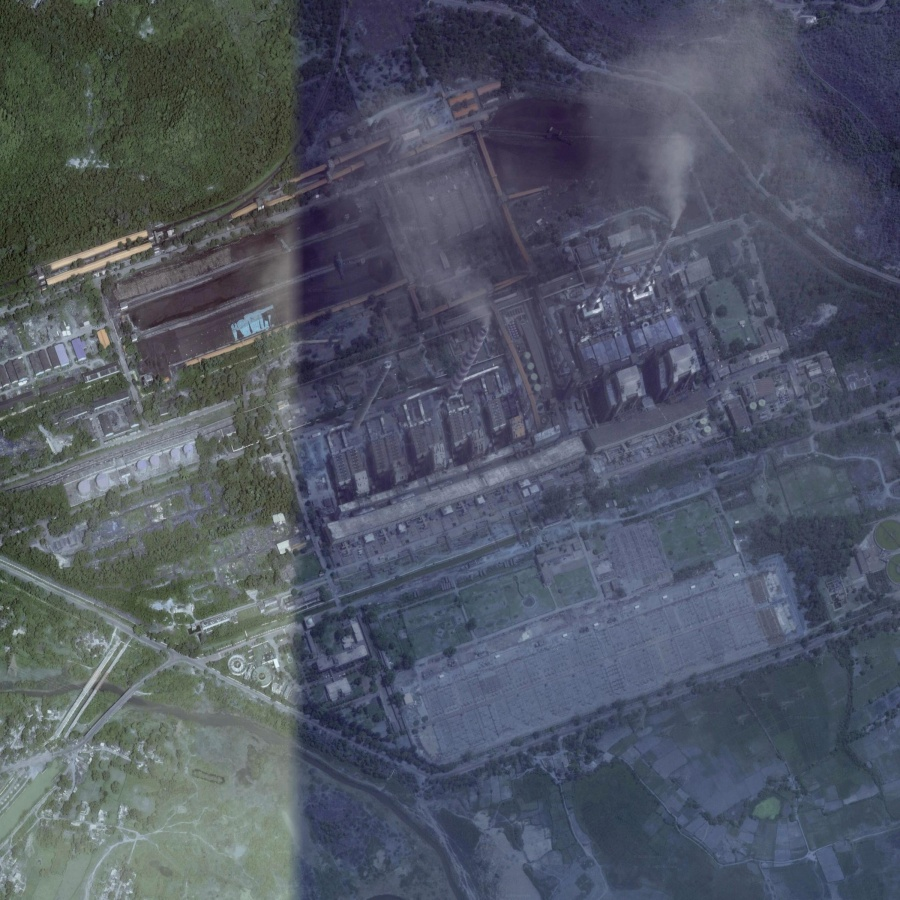PowerPlant: (324, 76, 779, 489)
